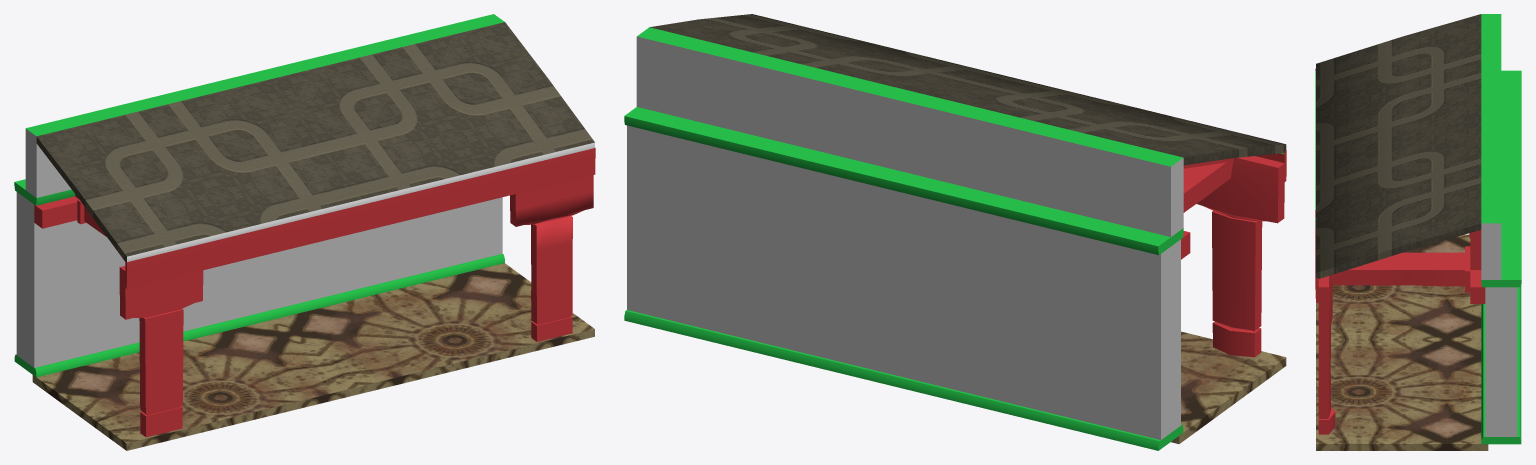
Rendered from Basic Hallway 04C.fbx.
3 views of the same model, side by side, from view 1: azimuth 30°, elevation 25°; view 2: azimuth 150°, elevation 25°; view 3: azimuth 270°, elevation 25° (orthographic). The views are drawn at different scales.
Visible parts, largest first — view 1: Plane_001; view 2: Plane_001; view 3: Plane_001.
Part boxes in pixels (x1,y1,x2,y2): Plane_001: [14, 14, 595, 450]; Plane_001: [624, 14, 1286, 450]; Plane_001: [1315, 14, 1521, 450].
Bounding box in the file's own units: 1258 × 638 × 523.
